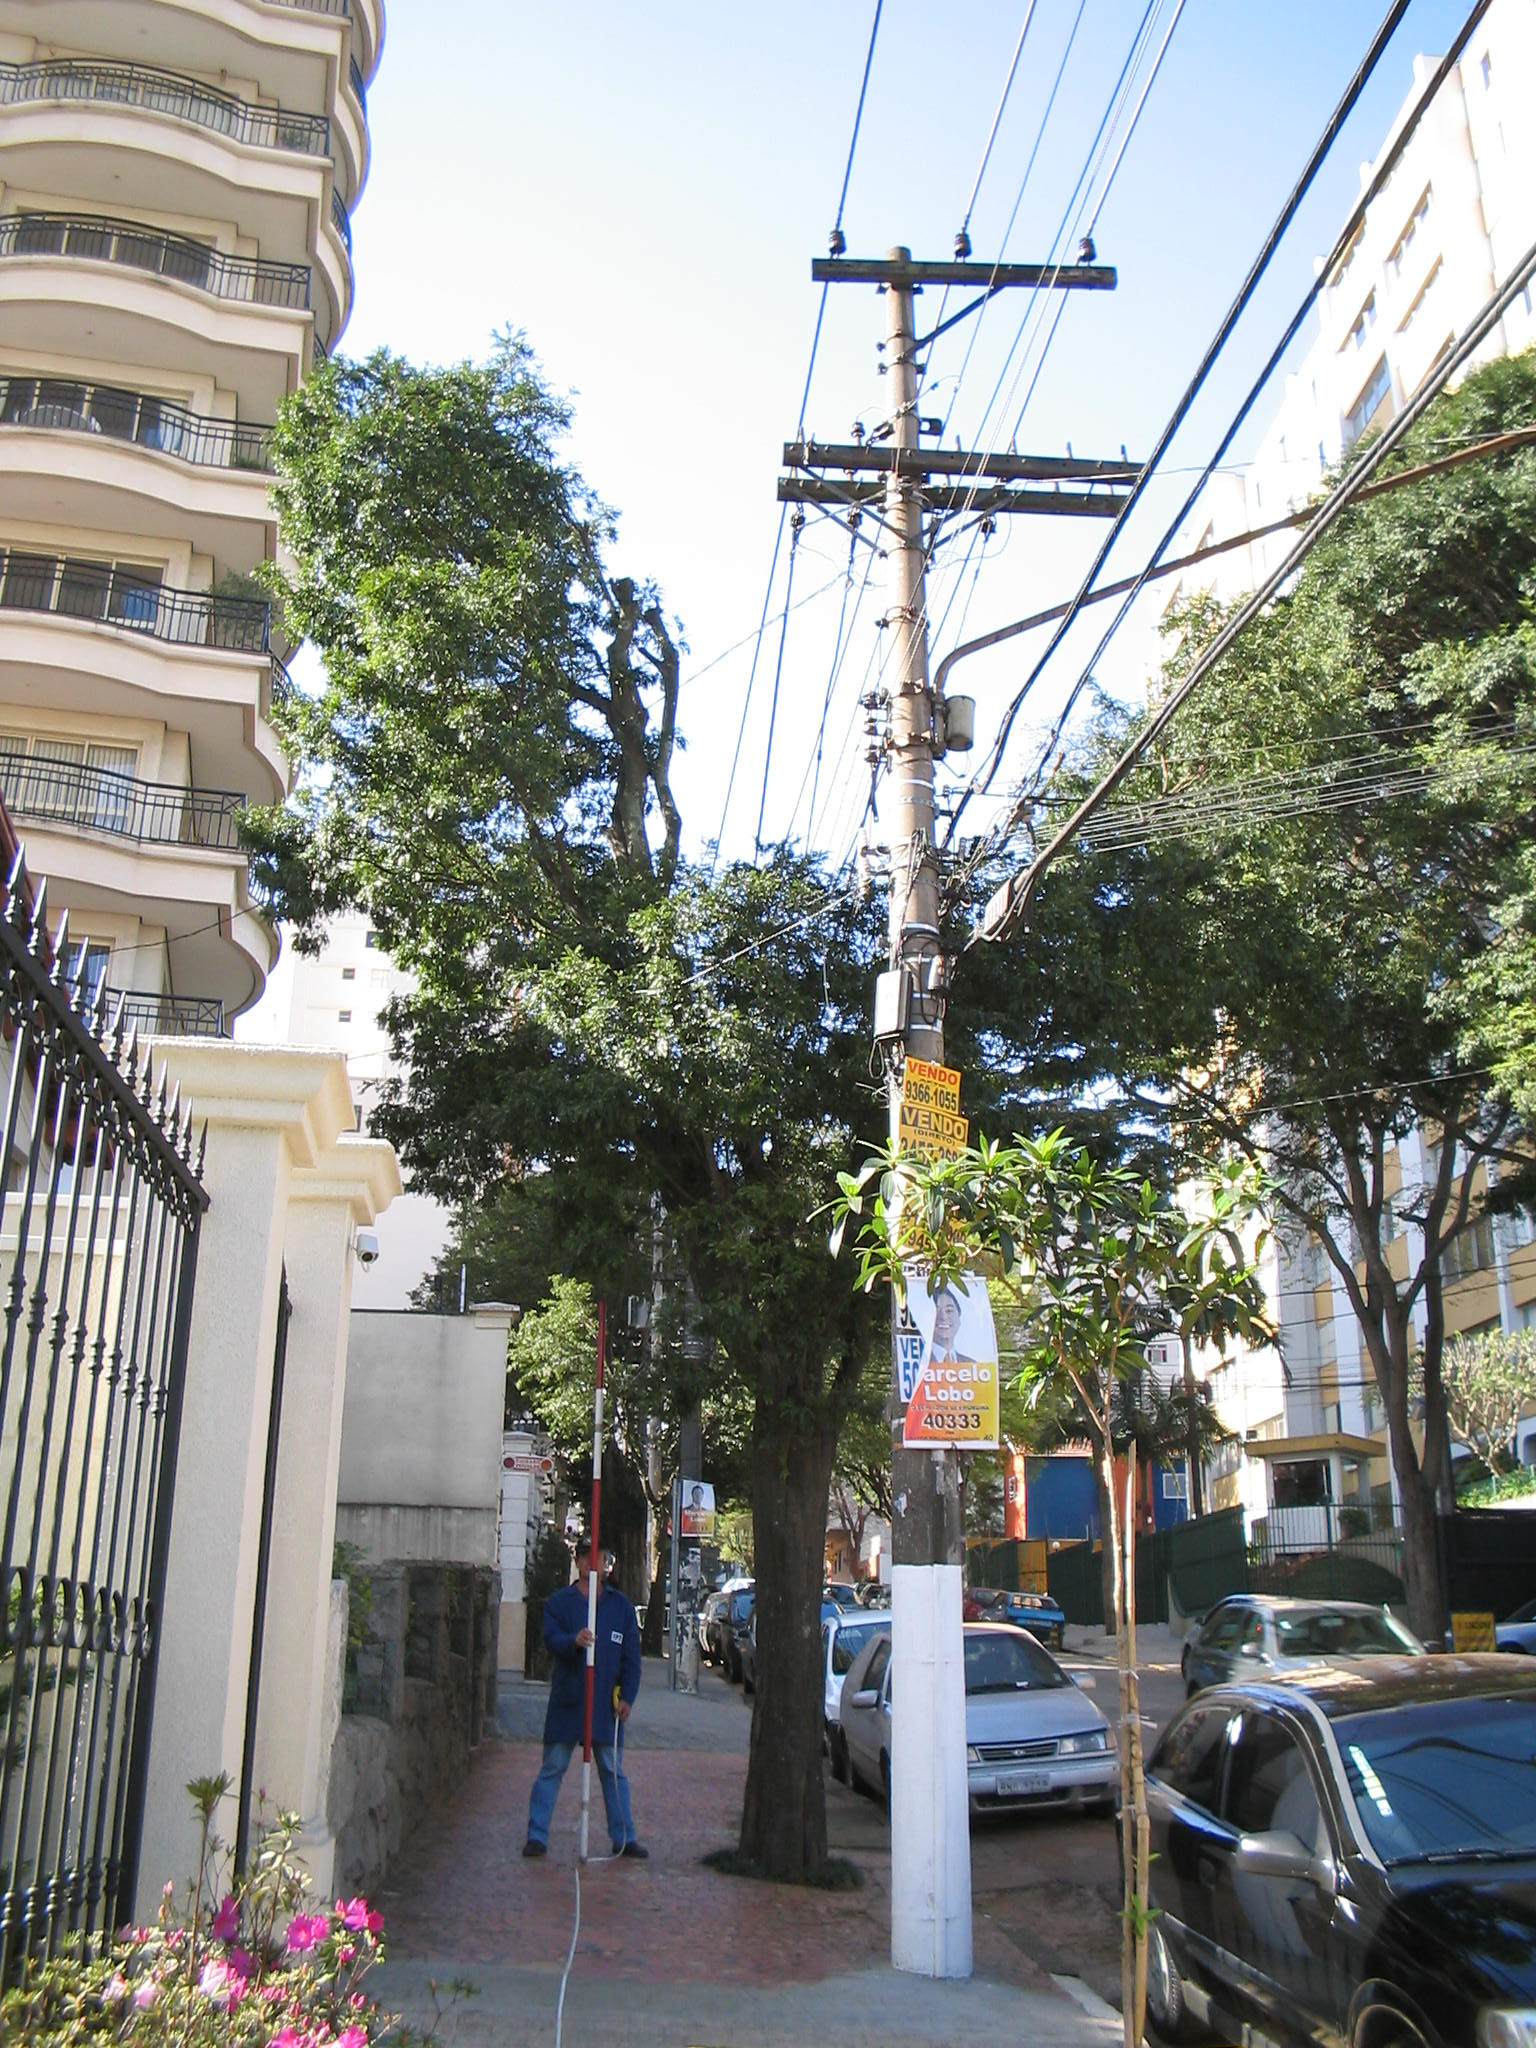crown: (245, 316, 1525, 1411)
stem: (694, 1421, 874, 1882)
stick: (573, 1295, 620, 1866)
tree: (237, 313, 1530, 1879)
